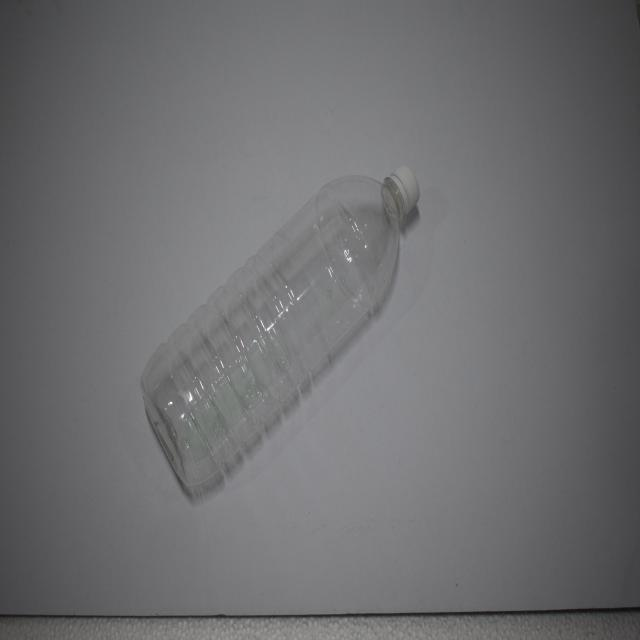bottle: (125, 146, 430, 516)
